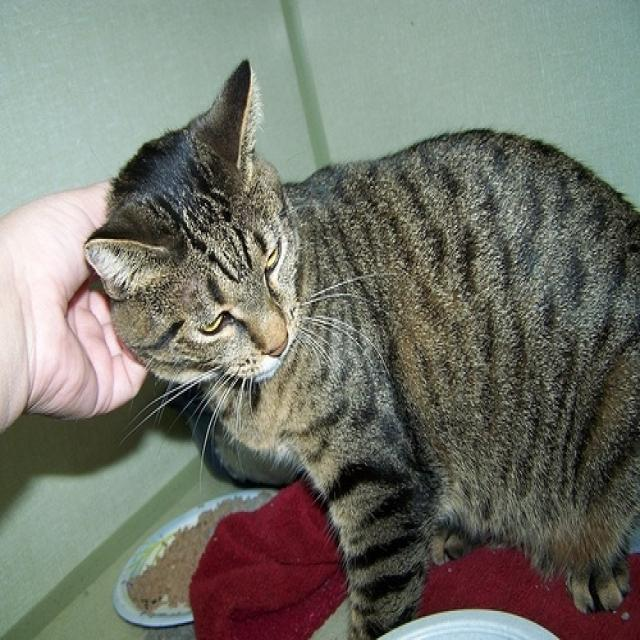cat: (82, 56, 639, 638)
